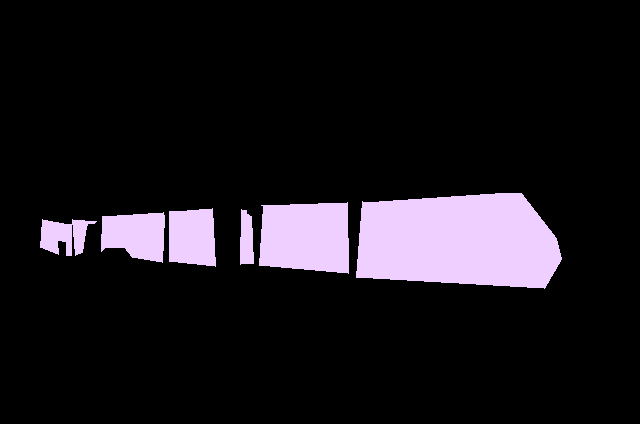Train: (40, 193, 561, 289)
